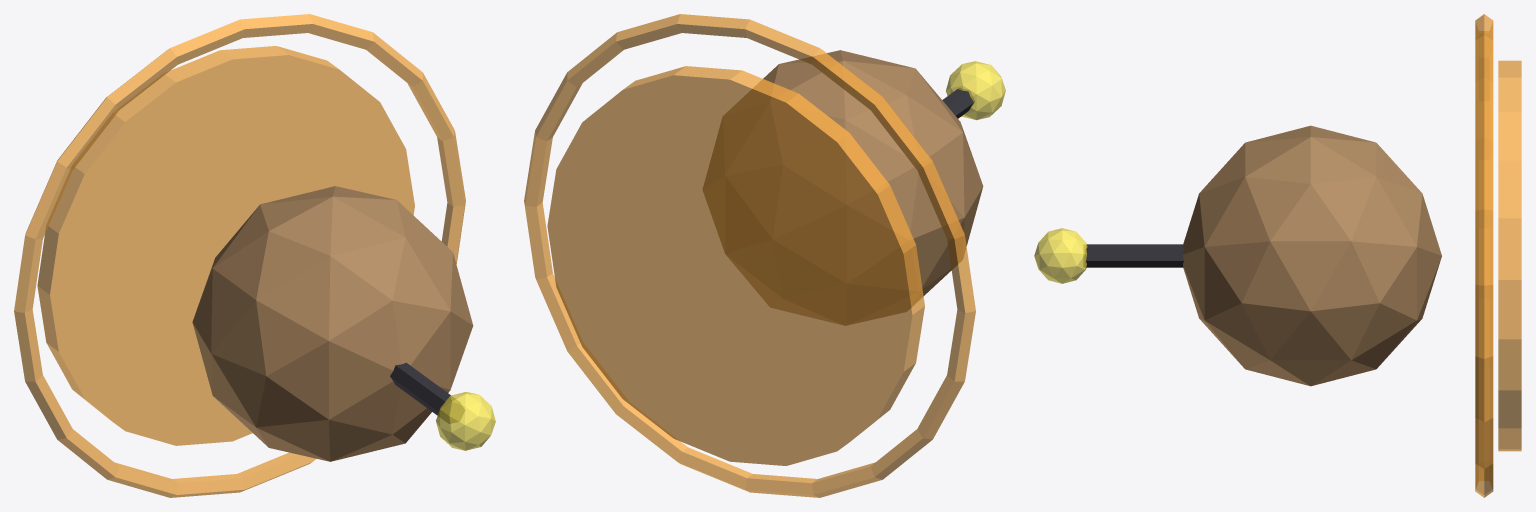
The model's file is 12_ammo_crate_pickup.glb.
3 renders of one model, left to right at view 1: azimuth 30°, elevation 25°; view 2: azimuth 150°, elevation 25°; view 3: azimuth 270°, elevation 25°, orthographic. The views are drawn at different scales.
Parts seen in each view (by area): view 1: base_disc, explosive_body, base_ring, spark, fuse; view 2: base_disc, explosive_body, base_ring, spark, fuse; view 3: explosive_body, base_disc, base_ring, fuse, spark.
Boxes of the visible parts, left/top/right/bottom form: base_disc: left=37, top=46, right=414, bottom=445; explosive_body: left=192, top=186, right=473, bottom=461; base_ring: left=14, top=14, right=465, bottom=497; spark: left=436, top=391, right=495, bottom=450; fuse: left=390, top=362, right=464, bottom=423; base_disc: left=547, top=66, right=924, bottom=465; explosive_body: left=703, top=50, right=983, bottom=325; base_ring: left=524, top=14, right=975, bottom=497; spark: left=946, top=61, right=1005, bottom=120; fuse: left=942, top=88, right=974, bottom=118; explosive_body: left=1182, top=125, right=1441, bottom=386; base_disc: left=1498, top=60, right=1521, bottom=451; base_ring: left=1475, top=14, right=1493, bottom=497; fuse: left=1084, top=244, right=1183, bottom=267; spark: left=1034, top=228, right=1087, bottom=283.
Bounding box in the file's own units: 1.04 × 1.04 × 1.04.
